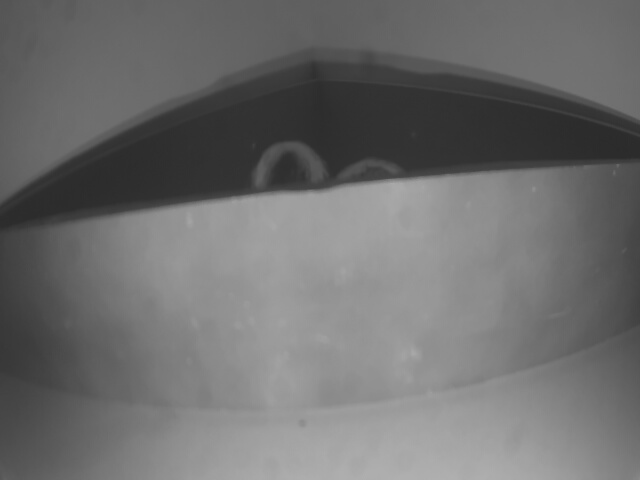Green: (0, 163, 640, 410)
